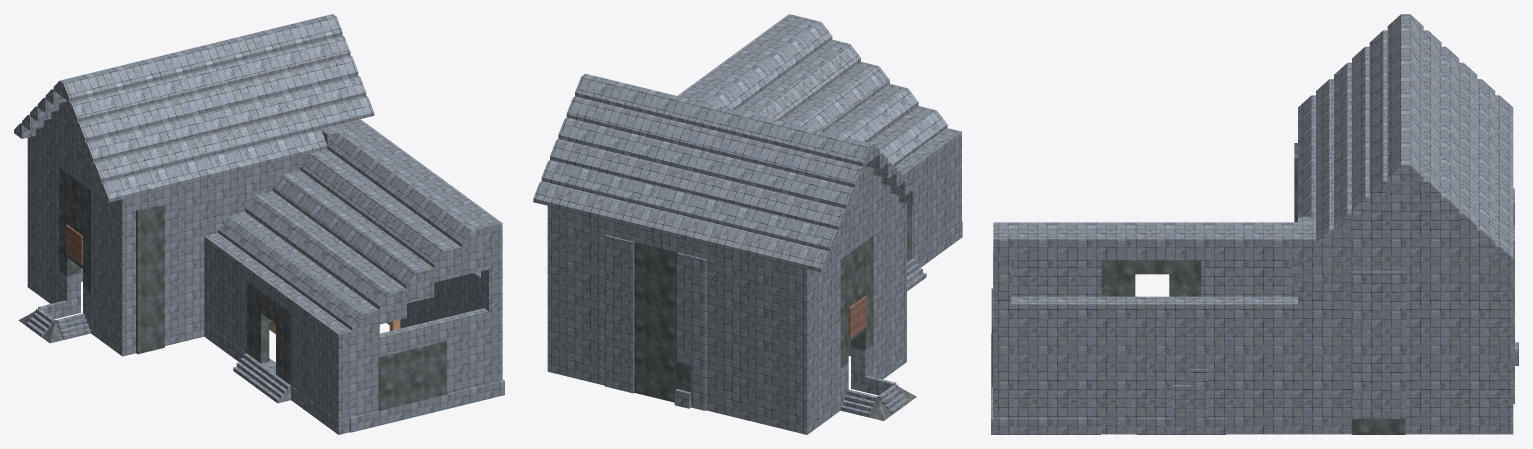
Rendered from blacksmith.fbx.
The picture shows the model from 3 angles, left to right: view 1: azimuth 30°, elevation 25°; view 2: azimuth 150°, elevation 25°; view 3: azimuth 270°, elevation 25°; orthographic projection. The views are drawn at different scales.
Parts seen in each view (by area): view 1: mergedBlocks; view 2: mergedBlocks; view 3: mergedBlocks.
Part boxes in pixels (x1=…): mergedBlocks: x1=14, y1=14, x2=504, y2=434; mergedBlocks: x1=533, y1=14, x2=962, y2=434; mergedBlocks: x1=991, y1=14, x2=1518, y2=434.
Bounding box in the file's own units: 101 × 77.66 × 134.
